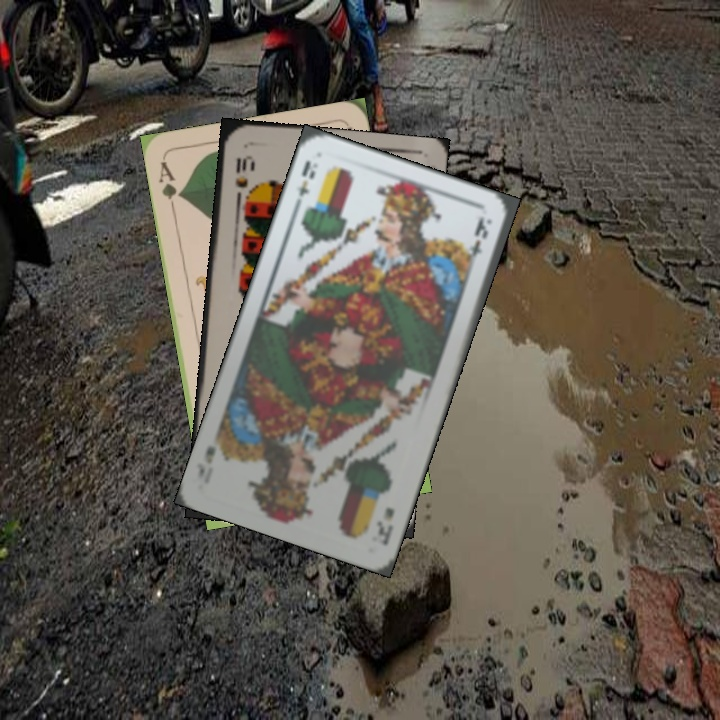EK: (290, 155, 320, 211), (372, 503, 397, 548)
GA: (155, 157, 185, 215)
S10: (231, 151, 252, 204)
